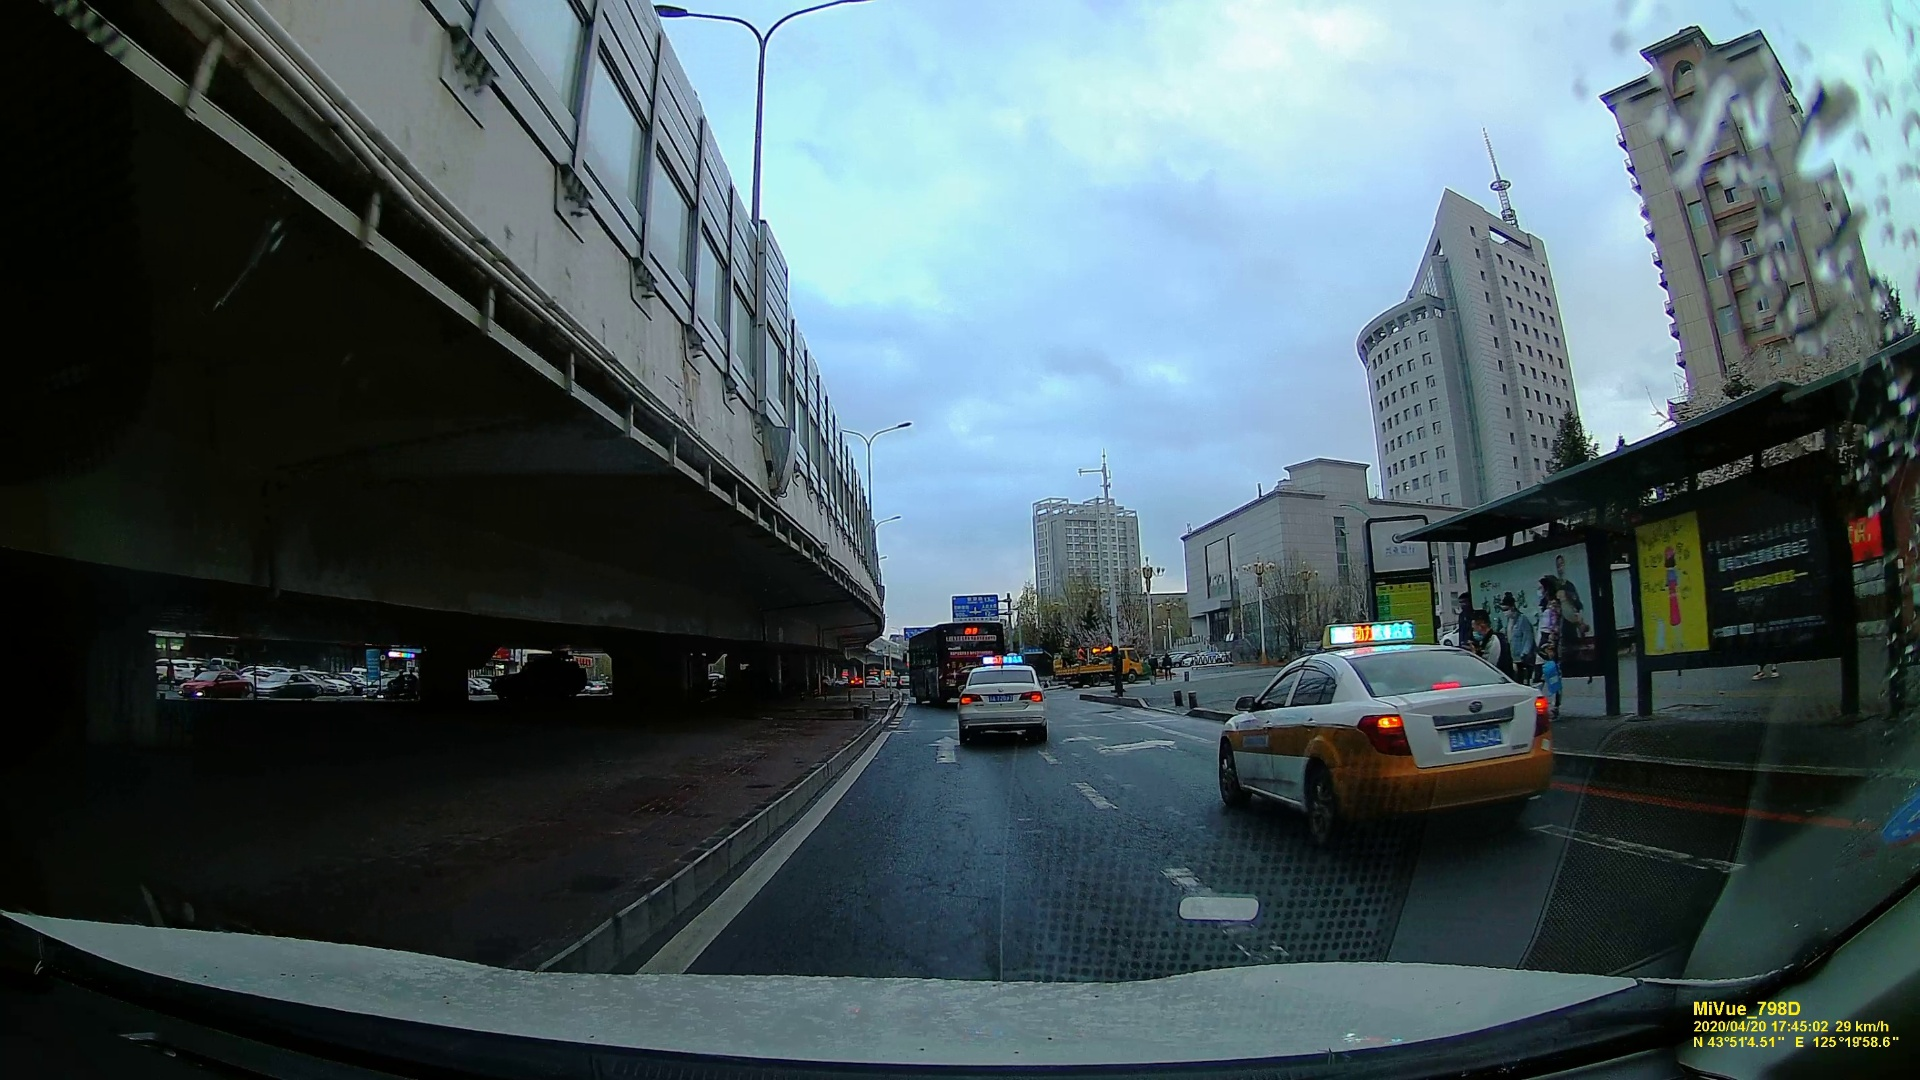bus: (907, 624, 1001, 702)
person: (1532, 577, 1570, 724), (1499, 596, 1535, 679), (1468, 614, 1499, 667)
traffic_sign: (950, 594, 997, 619)
truck: (1057, 644, 1139, 687)
vehicle: (1216, 647, 1547, 848), (956, 661, 1051, 745)
